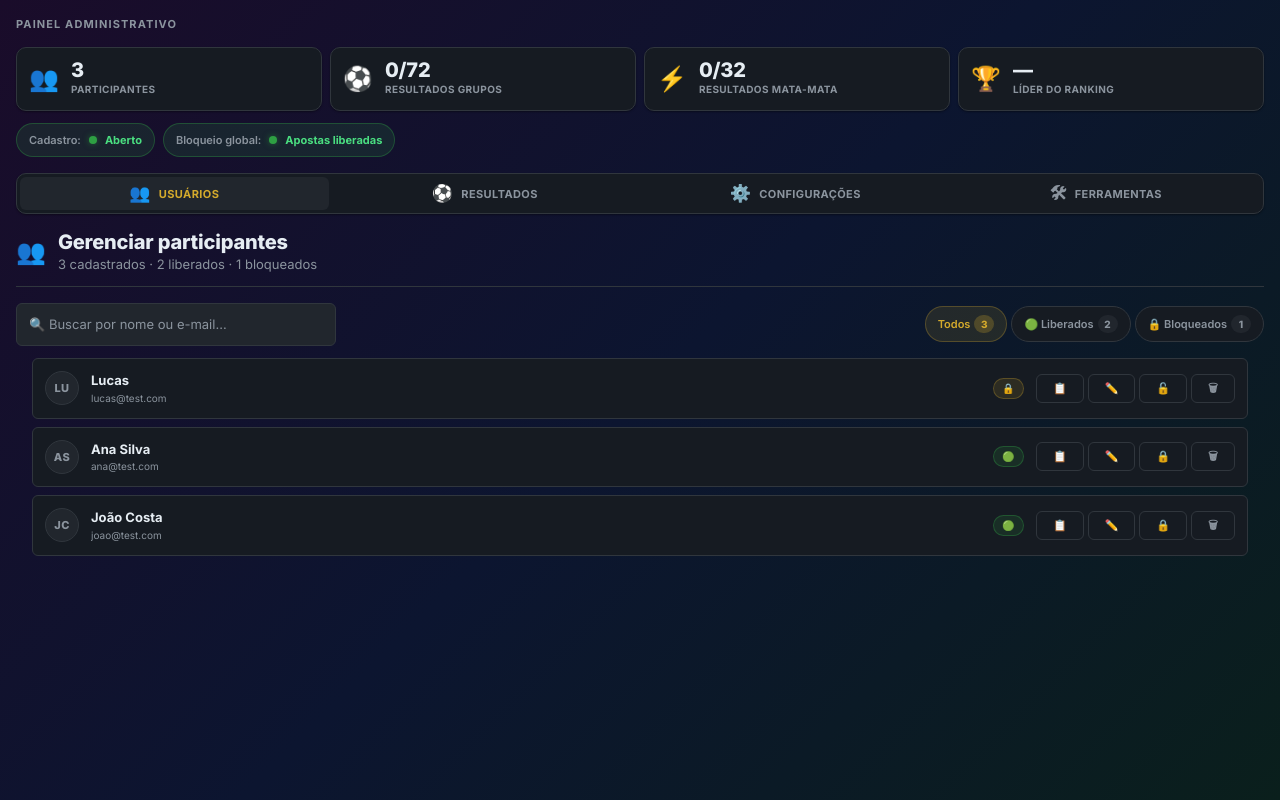
it: AdminScreen — Usuários tab › removes user from list after delete
The width and height of the screenshot is (1280, 800).
Click the button named "Excluir usuário": (1213, 388) [1191,374,1235,403]
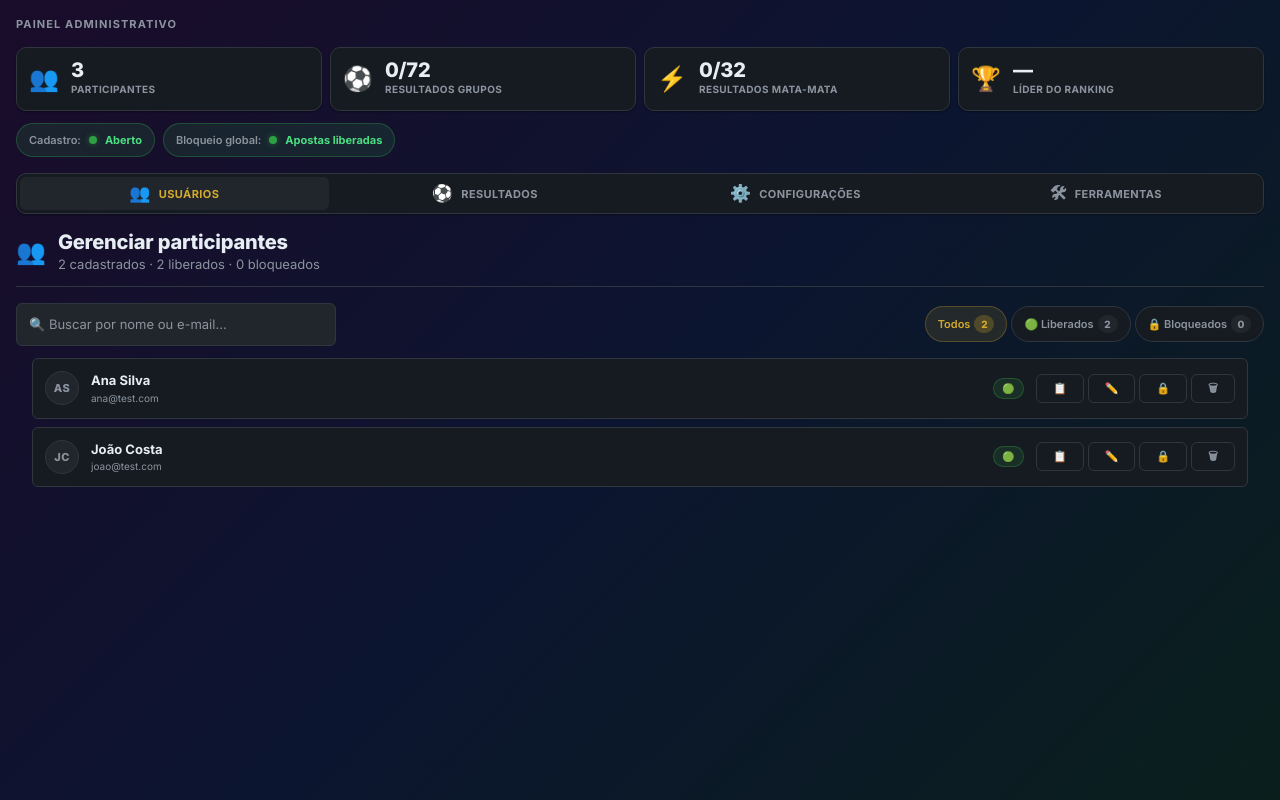
Check: the text "Lucas" is gone
